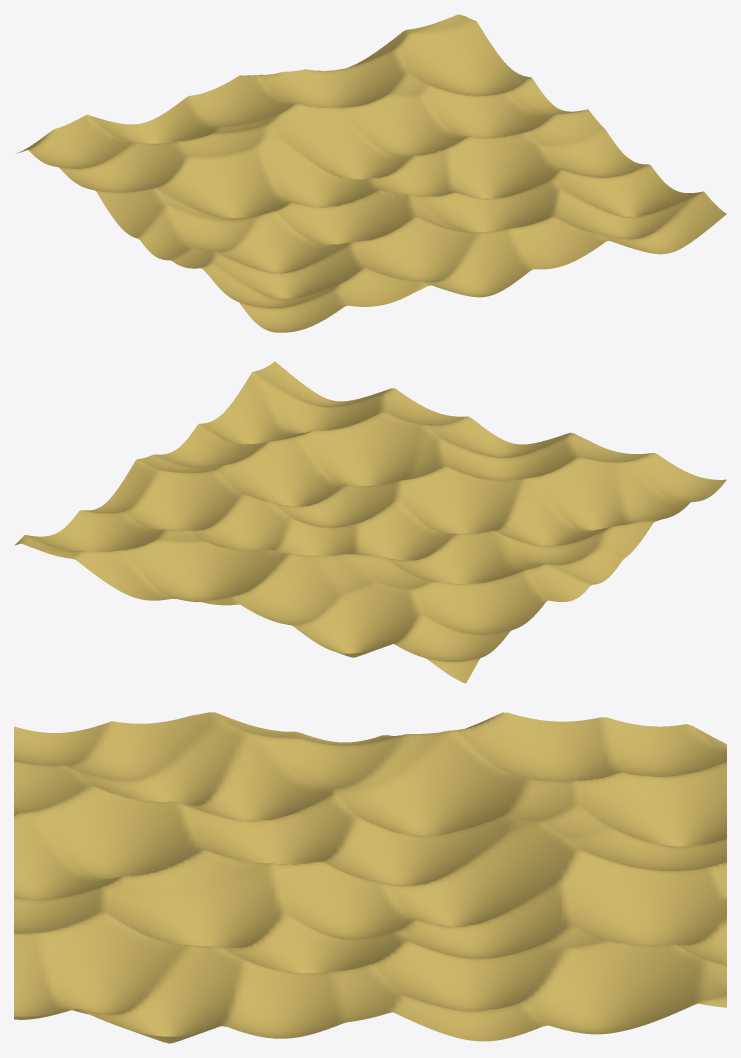
The model's file is desertplane-textured.glb.
3 renders of one model, top to bottom at view 1: azimuth 30°, elevation 25°; view 2: azimuth 150°, elevation 25°; view 3: azimuth 270°, elevation 25°, orthographic. The views are drawn at different scales.
Visible parts, largest first — view 1: Plane; view 2: Plane; view 3: Plane.
Part boxes in pixels (box(x1,y1,x2,y2)): Plane: box(16, 14, 726, 332); Plane: box(14, 361, 726, 683); Plane: box(14, 712, 726, 1043).
Size of the model in its own units: 10 by 1.07 by 10.
